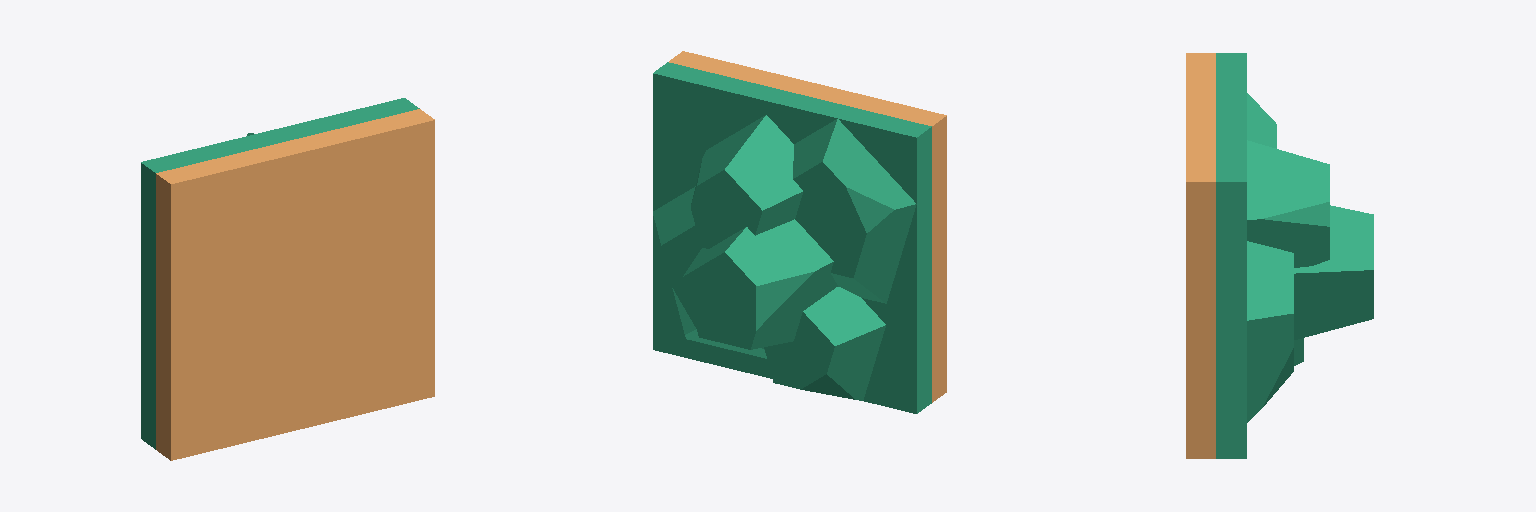
The model's file is tile_hill.obj.
3 renders of one model, left to right at view 1: azimuth 30°, elevation 25°; view 2: azimuth 150°, elevation 25°; view 3: azimuth 270°, elevation 25°, orthographic.
Parts seen in each view (by area): view 1: tile_hill; view 2: tile_hill; view 3: tile_hill.
Part boxes in pixels (x1,y1,x2,y2): tile_hill: (141, 98, 434, 460); tile_hill: (653, 51, 946, 413); tile_hill: (1186, 53, 1373, 458).
Bounding box in the file's own units: 1 × 1 × 0.6186.